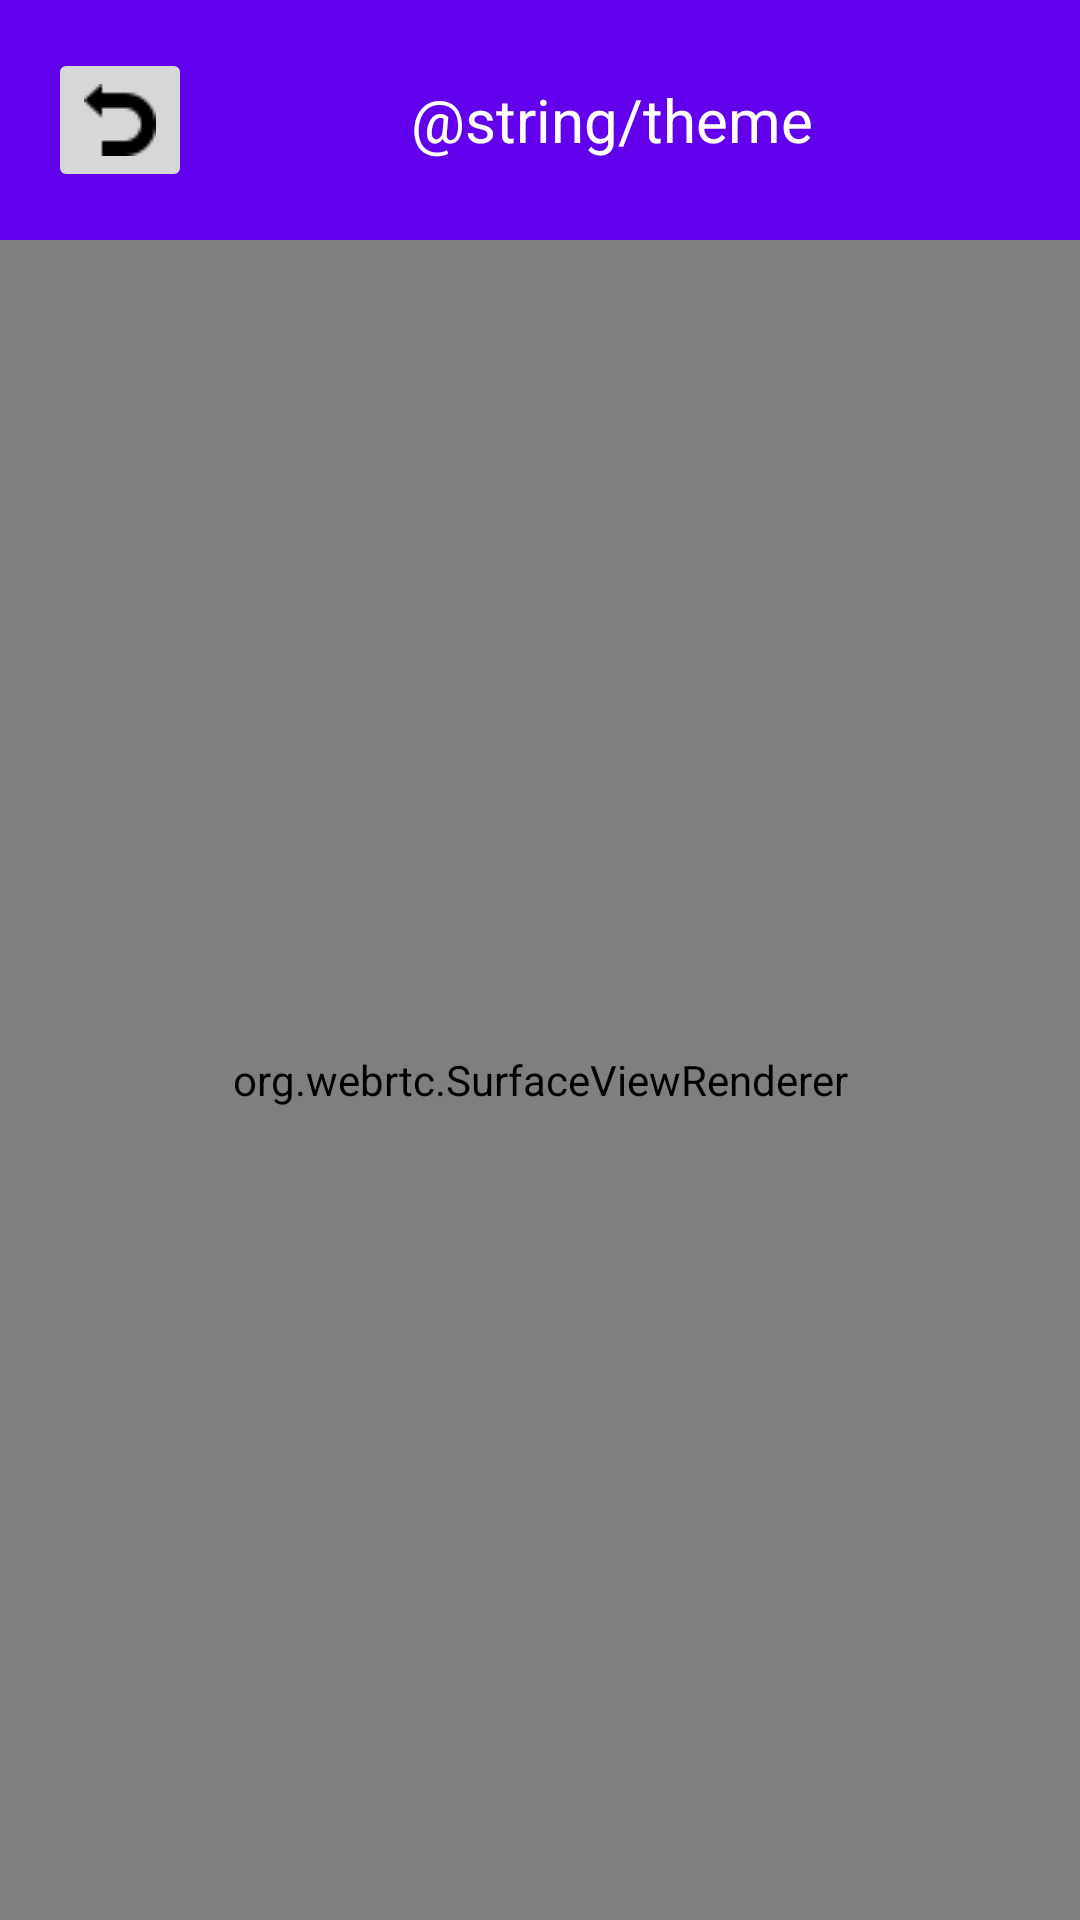

Where icons sit on this 1080px×1920px app screen, as (x1, y1, x2, y2):
return: (60, 66, 180, 174)
